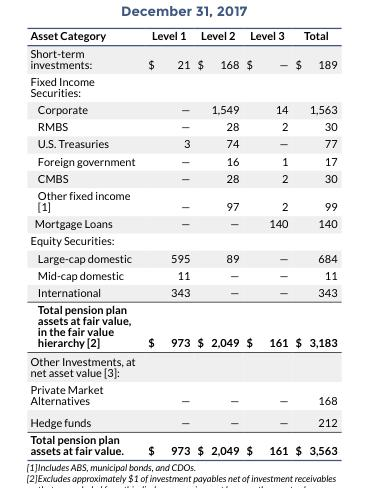table: (29, 28, 336, 456)
table column: (29, 28, 140, 456), (140, 28, 192, 456), (241, 28, 291, 456), (192, 28, 241, 456), (291, 28, 336, 456)
table column header: (29, 28, 336, 43)
table projected row header: (29, 71, 336, 100), (29, 351, 336, 380), (29, 231, 336, 248)
table row: (29, 300, 336, 351), (29, 380, 336, 410), (29, 71, 336, 100), (29, 351, 336, 380), (29, 43, 336, 71), (29, 186, 336, 214), (29, 430, 336, 456), (29, 410, 336, 430), (29, 168, 336, 186), (29, 265, 336, 283), (29, 100, 336, 117), (29, 117, 336, 134), (29, 134, 336, 151), (29, 151, 336, 168), (29, 214, 336, 231), (29, 231, 336, 248), (29, 248, 336, 265), (29, 283, 336, 300), (29, 28, 336, 43)
